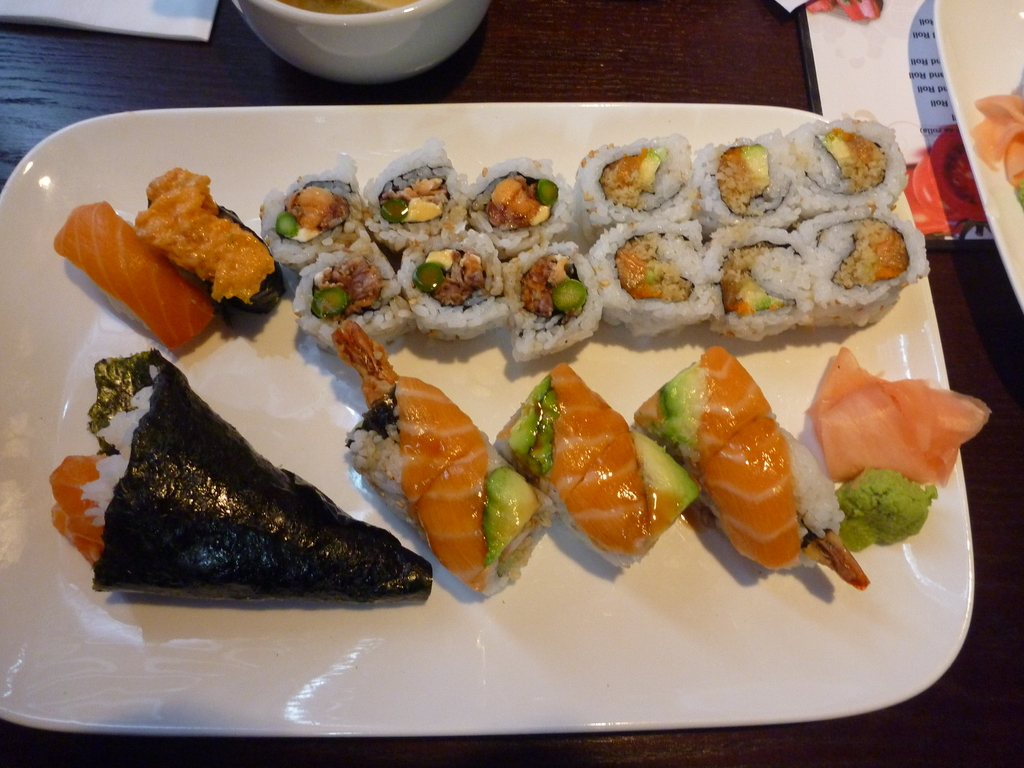sushi: (52, 111, 993, 601), (52, 351, 433, 600), (76, 174, 267, 345)
